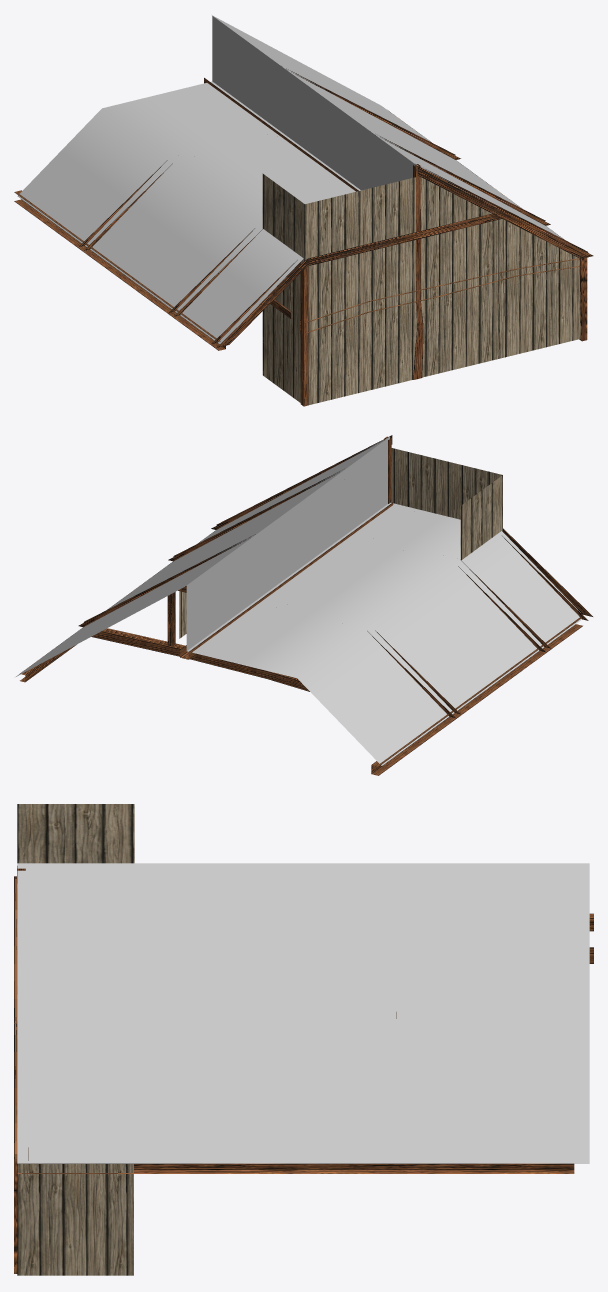
Rendered from LAKETOWN_PUB_PS_PUB_ROOFBACKWALL9__GX.obj.
3 views of the same model, one above another, from view 1: azimuth 30°, elevation 25°; view 2: azimuth 150°, elevation 25°; view 3: azimuth 270°, elevation 25° (orthographic). The views are drawn at different scales.
Parts seen in each view (by area): view 1: ofBackWall9__GX; view 2: ofBackWall9__GX; view 3: ofBackWall9__GX.
Boxes of the visible parts, bbox=[...] form: ofBackWall9__GX: bbox=[14, 15, 593, 406]; ofBackWall9__GX: bbox=[16, 435, 592, 775]; ofBackWall9__GX: bbox=[14, 804, 593, 1275].
Size of the model in its own units: 1147 by 625 by 1097.
